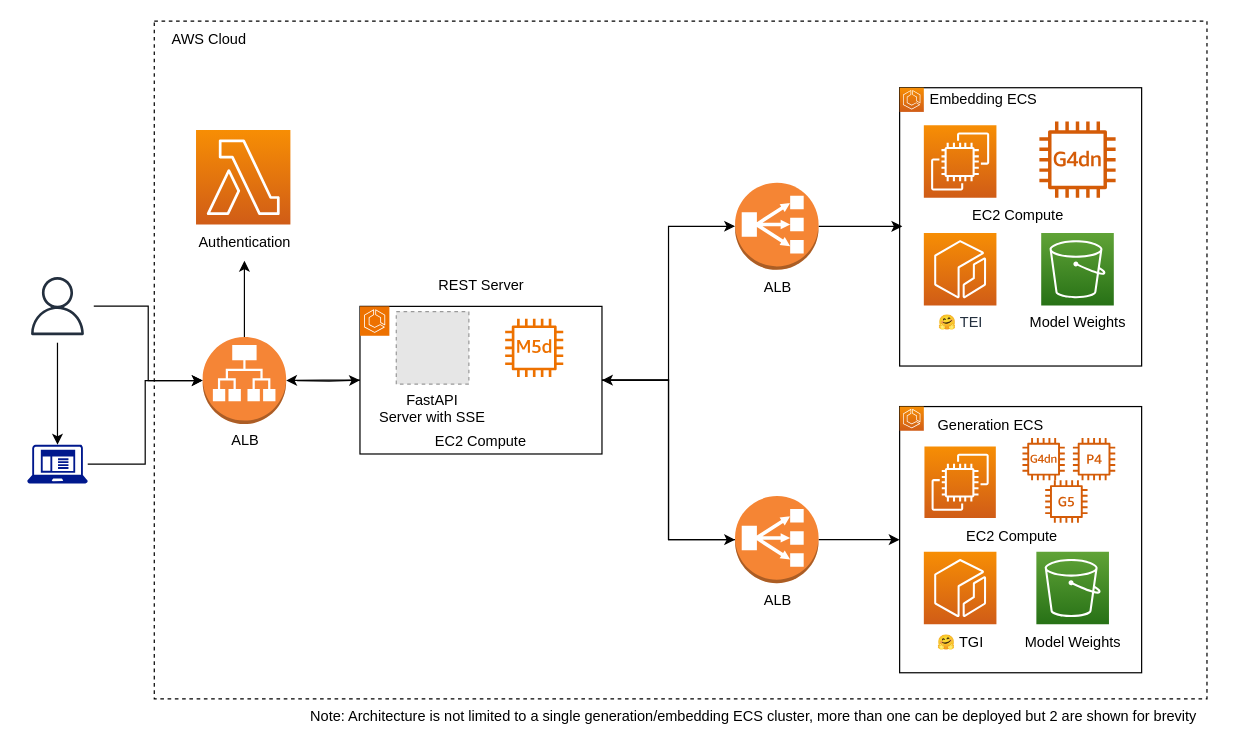
Some shapes in this 1233 by 756 pixel diagram are drawn without their labels. Grey dashed boxes stand in for pictures. Each missing label, with the centre of its shape:
API User: point (57, 305)
Lisa-Chat: point (57, 463)
